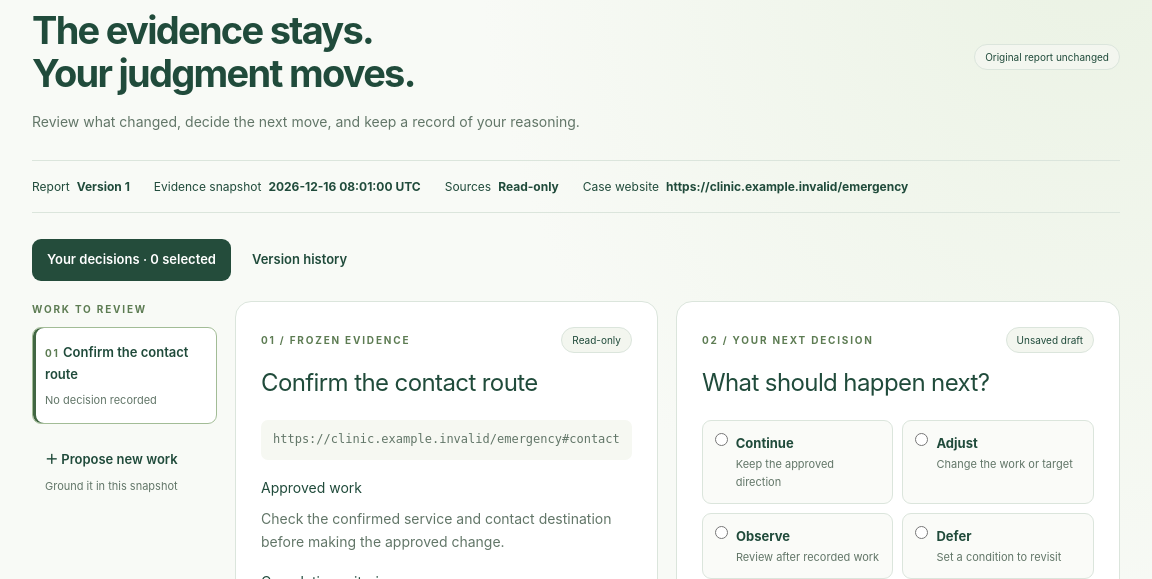
keeps private text out of storage and recovers lost receipt by ID
The image size is (1152, 579).
Expected: the heading "What should happen next?" is shown, [702,368,989,397]
Click the radio button labelled "Continue Keep the approved direction": (721, 440) [715,433,728,446]
(page scrolled)
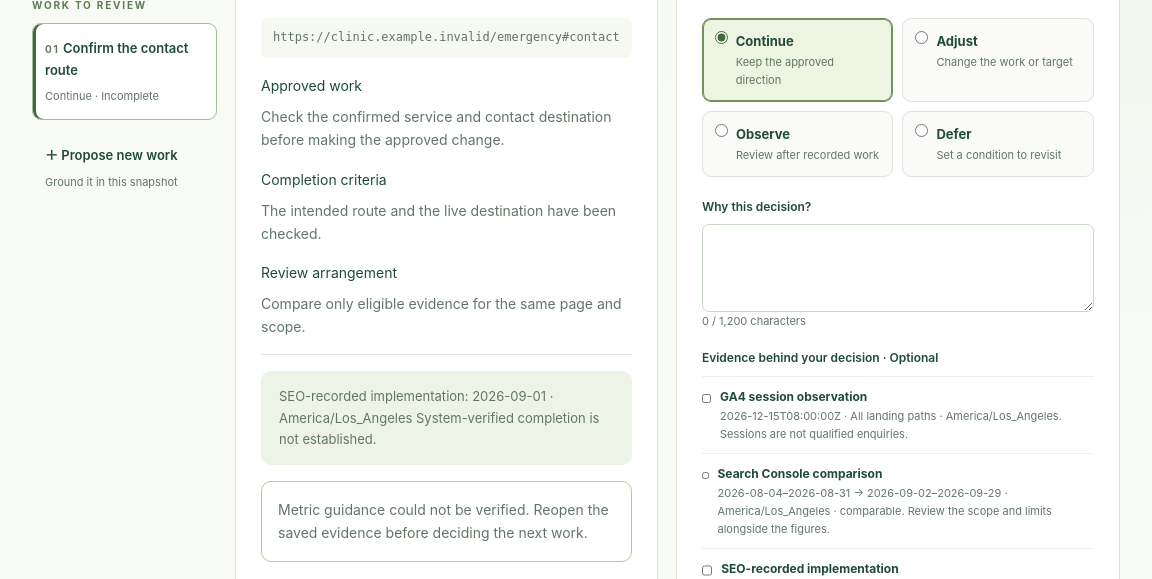
In the text box labelled "Why this decision? 0 / 1,200 characters": (898, 268) [702,224,1094,312], type "Keep this direction while checking the contact path."
(page scrolled)
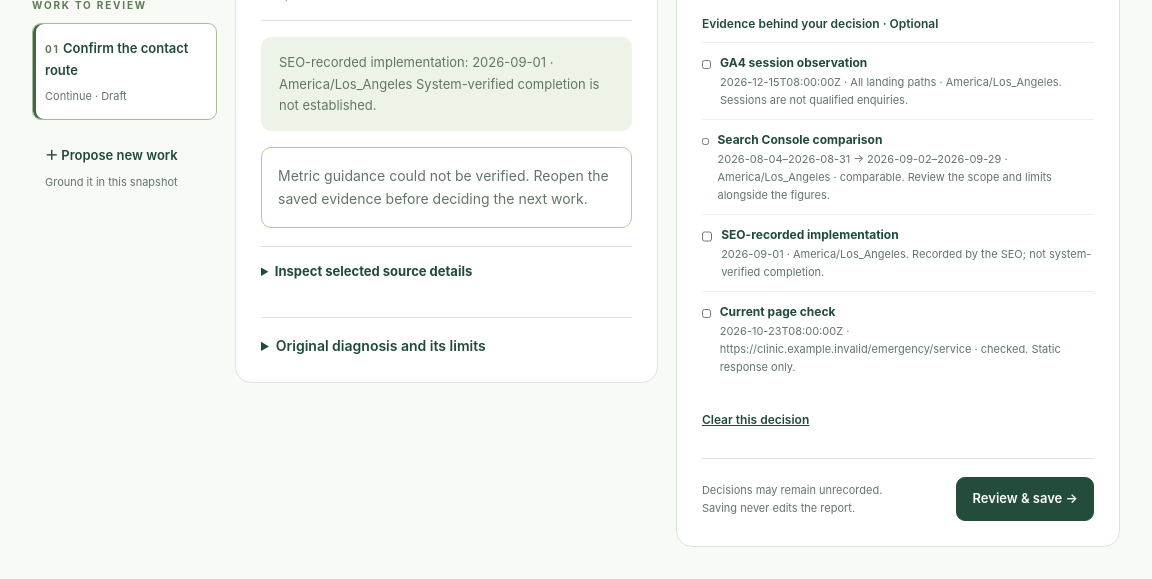
Click the button "Review & save →": (1025, 499) [956,477,1094,521]
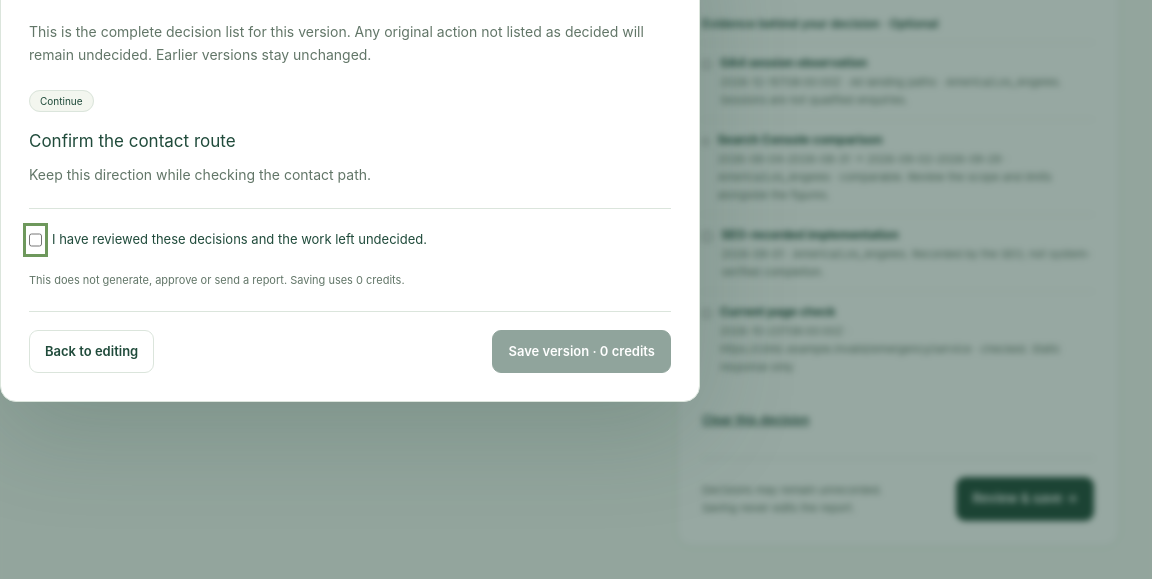
Expected: the button "Save version · 0 credits" is disabled, [492,330,671,373]
Click the checkbox: (36, 240) [29,229,42,250]
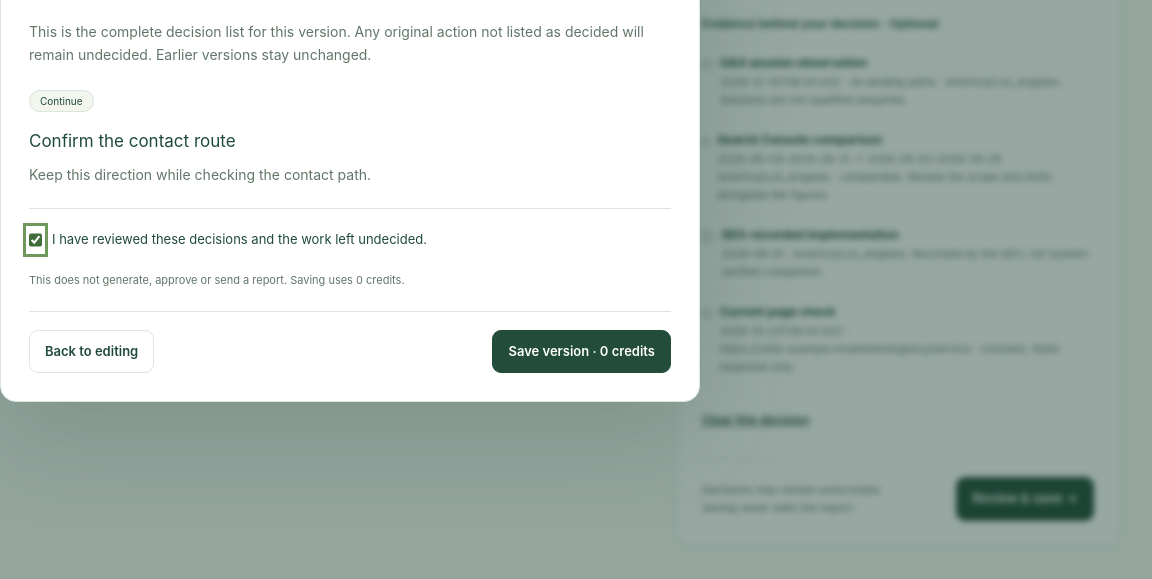
Click the button "Save version · 0 credits": (582, 351) [492,330,671,373]
(page scrolled)
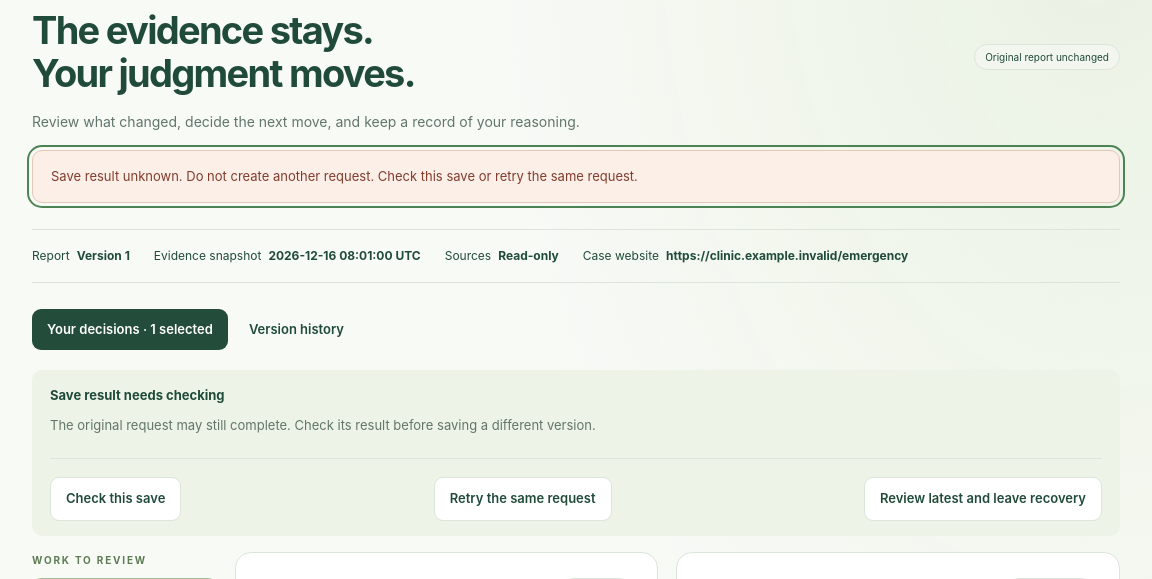
Expected: the text "Save result needs checking" is shown, [50,387,224,403]
Click the button "Check this save": (116, 499) [50,477,181,520]
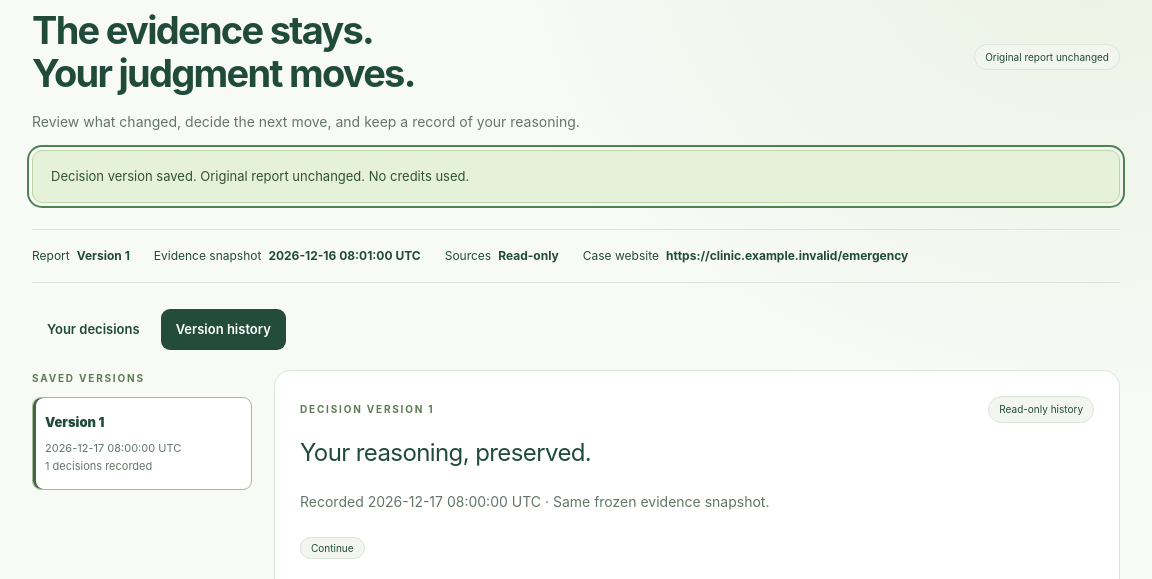
Expected: the text "Read-only history" is shown, [988,396,1094,423]
